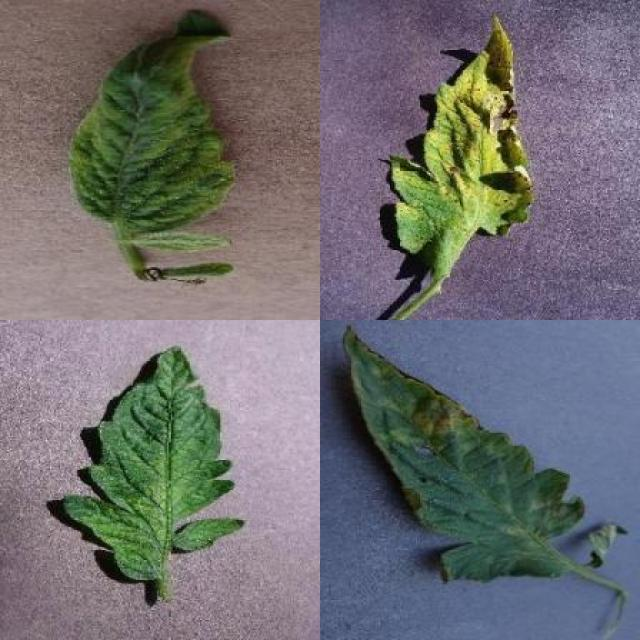Leaf Mold: (340, 324, 586, 586)
Mosaic Virus: (58, 345, 245, 584)
Septoria: (390, 14, 533, 282)
Yellow Leaf Curl Virus: (72, 8, 238, 228)
